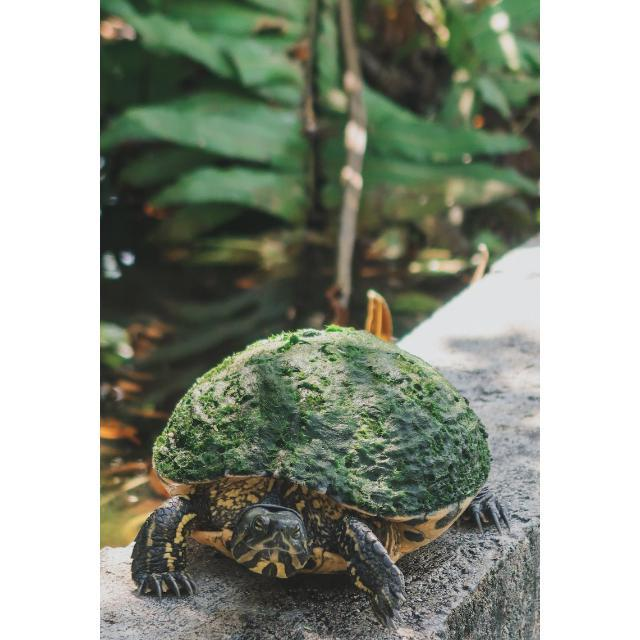turtle: (127, 323, 511, 627)
